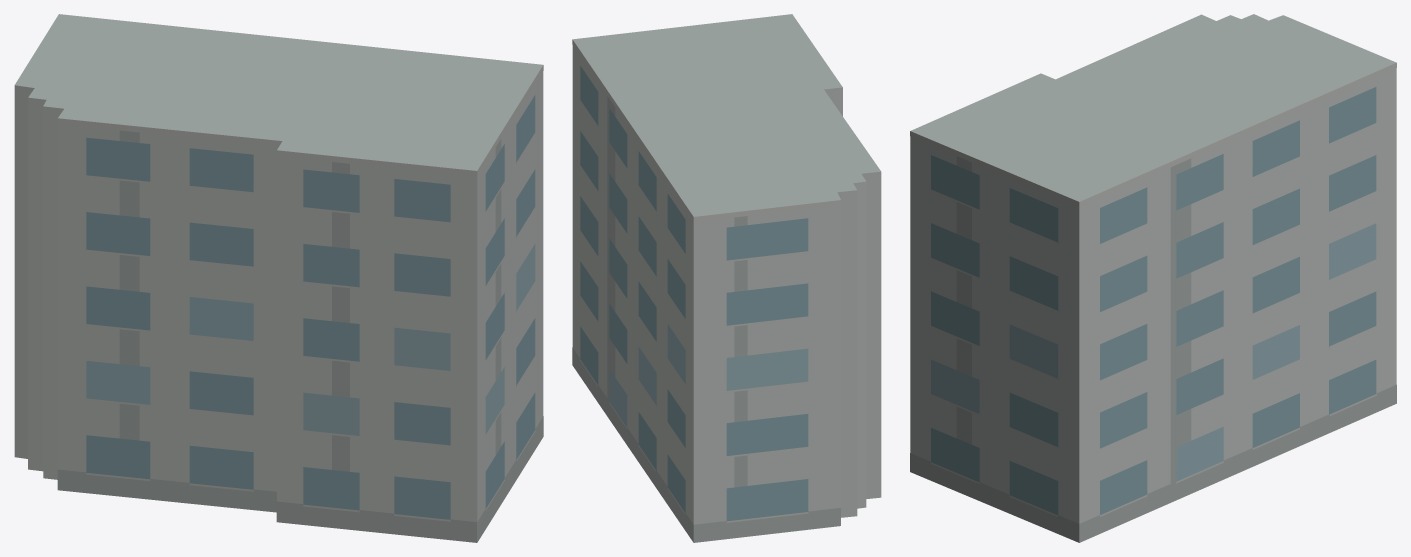
Rendered from survey-upis-32892881.glb.
The picture shows the model from 3 angles, left to right: view 1: azimuth 30°, elevation 25°; view 2: azimuth 150°, elevation 25°; view 3: azimuth 270°, elevation 25°; orthographic projection. The views are drawn at different scales.
Visible parts, largest first — view 1: survey-upis-32892881.tmp; view 2: survey-upis-32892881.tmp; view 3: survey-upis-32892881.tmp.
Boxes of the visible parts, x1=… form: survey-upis-32892881.tmp: x1=14, y1=14, x2=543, y2=542; survey-upis-32892881.tmp: x1=572, y1=14, x2=881, y2=542; survey-upis-32892881.tmp: x1=910, y1=14, x2=1396, y2=542.
Bounding box in the file's own units: 18.03 × 15.25 × 19.73.
